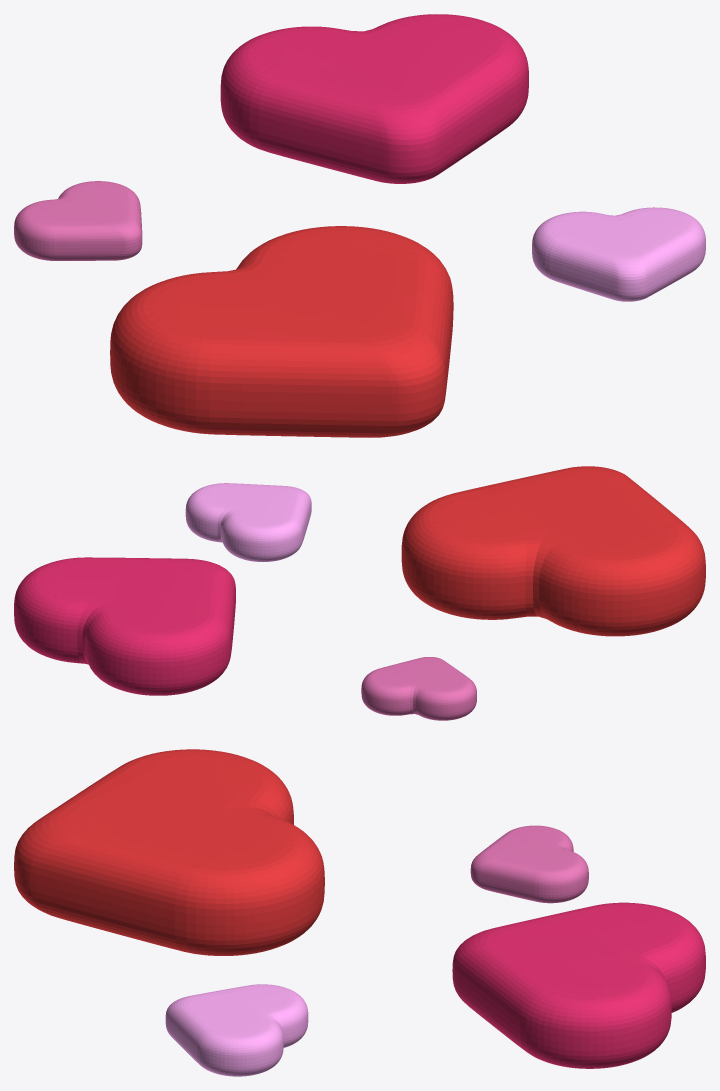
Rendered from hearts.glb.
3 views of the same model, one above another, from view 1: azimuth 30°, elevation 25°; view 2: azimuth 150°, elevation 25°; view 3: azimuth 270°, elevation 25° (orthographic). The views are drawn at different scales.
Parts seen in each view (by area): view 1: Cube_0, Cube.001_5, Cube.003_7, Cube.002_6; view 2: Cube_0, Cube.001_5, Cube.003_7, Cube.002_6; view 3: Cube_0, Cube.001_5, Cube.003_7, Cube.002_6.
Part boxes in pixels (x1,y1,x2,y2): Cube_0: [110, 226, 453, 437]; Cube.001_5: [220, 14, 528, 183]; Cube.003_7: [532, 207, 705, 301]; Cube.002_6: [14, 181, 142, 260]; Cube_0: [401, 466, 705, 636]; Cube.001_5: [14, 557, 235, 695]; Cube.003_7: [185, 483, 311, 561]; Cube.002_6: [361, 657, 476, 720]; Cube_0: [14, 749, 324, 955]; Cube.001_5: [452, 902, 705, 1068]; Cube.003_7: [165, 984, 308, 1076]; Cube.002_6: [470, 825, 588, 903].
Size of what is drawn, in the model's own units: 6.23 by 0.9194 by 6.76.
